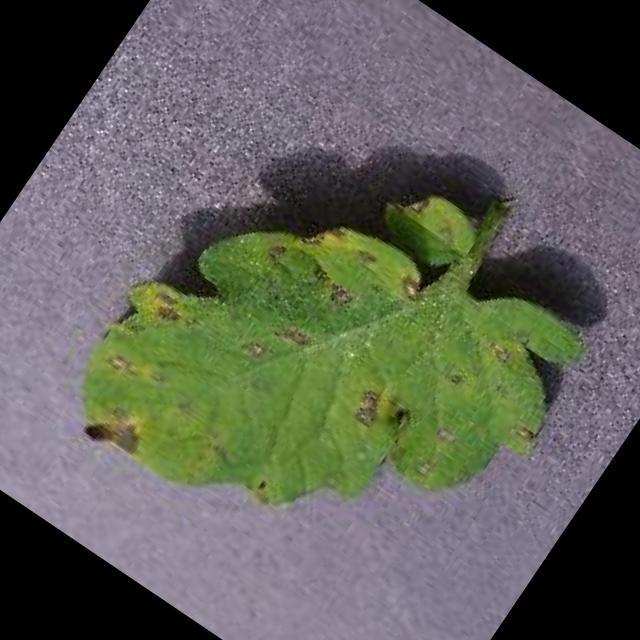Tomato Septoria spot leaf: (47, 74, 628, 640)
